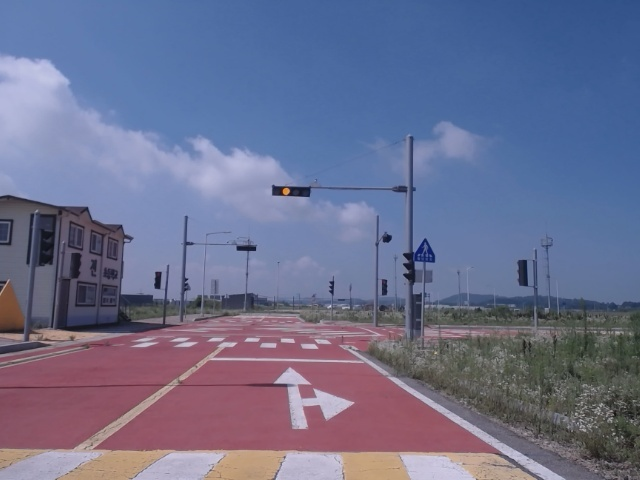orange_4: (273, 185, 311, 197)
